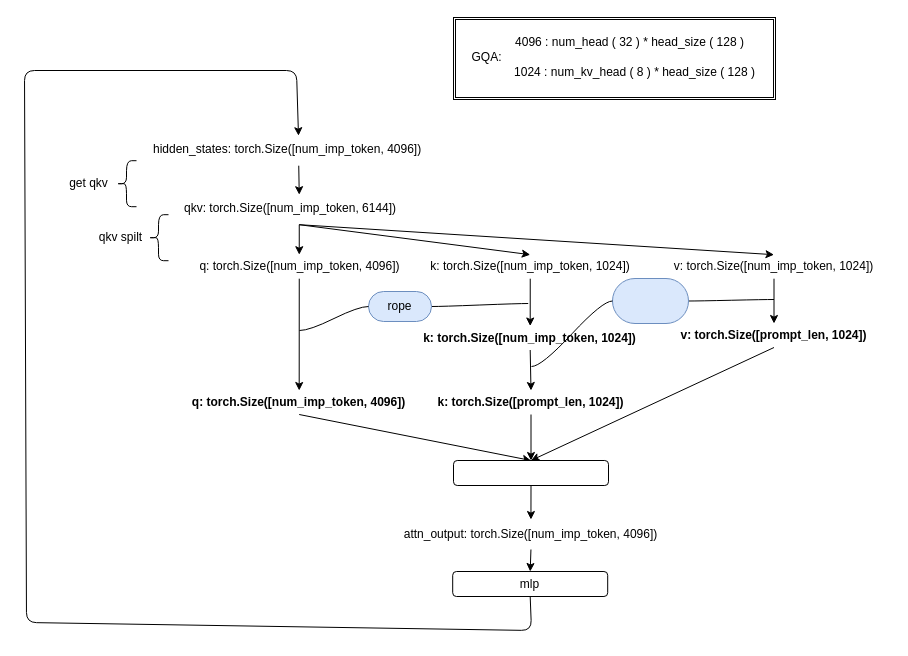
Image size: 908x656. Some labels were removed from this diagram. The shapes that lost their labels are listed below. From the top down, each one's centre as x and y in pixels, then its label:
At point (650, 301): "update old_kv".
At point (530, 473): "attention calculate".
